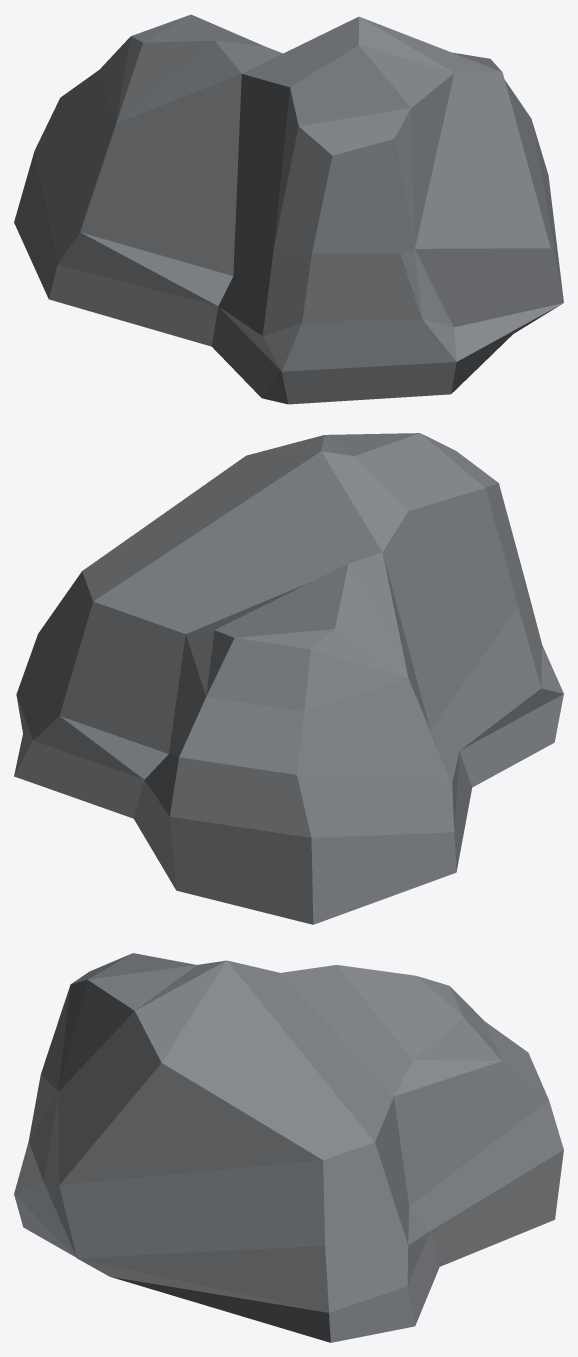
The model's file is Rock_Round_l_02.fbx.
3 renders of one model, top to bottom at view 1: azimuth 30°, elevation 25°; view 2: azimuth 150°, elevation 25°; view 3: azimuth 270°, elevation 25°, orthographic. The views are drawn at different scales.
Parts seen in each view (by area): view 1: Rock_Round_l_02; view 2: Rock_Round_l_02; view 3: Rock_Round_l_02.
Part boxes in pixels (x1=…): Rock_Round_l_02: x1=14, y1=14, x2=563, y2=404; Rock_Round_l_02: x1=14, y1=433, x2=563, y2=924; Rock_Round_l_02: x1=14, y1=953, x2=563, y2=1342.
Size of the model in its own units: 217 by 131 by 238.
